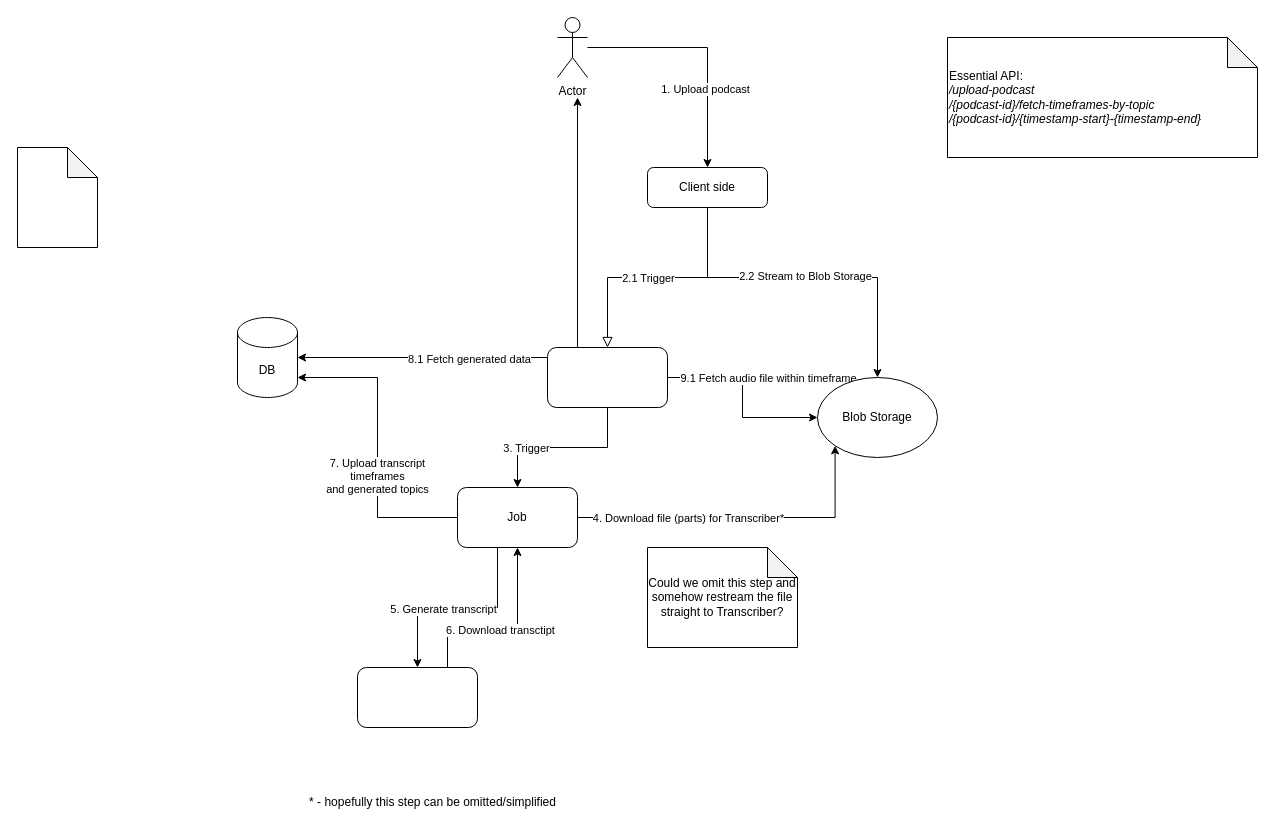
The diagram is 1275 pixels wide and 835 high, and some of its shapes have lost their labels. Here are the shapes that lost their labels. From the top down, the centre of each, then its label:
(x=57, y=197): AWS Step Functions?
(x=607, y=377): API
(x=417, y=697): Transcriber
